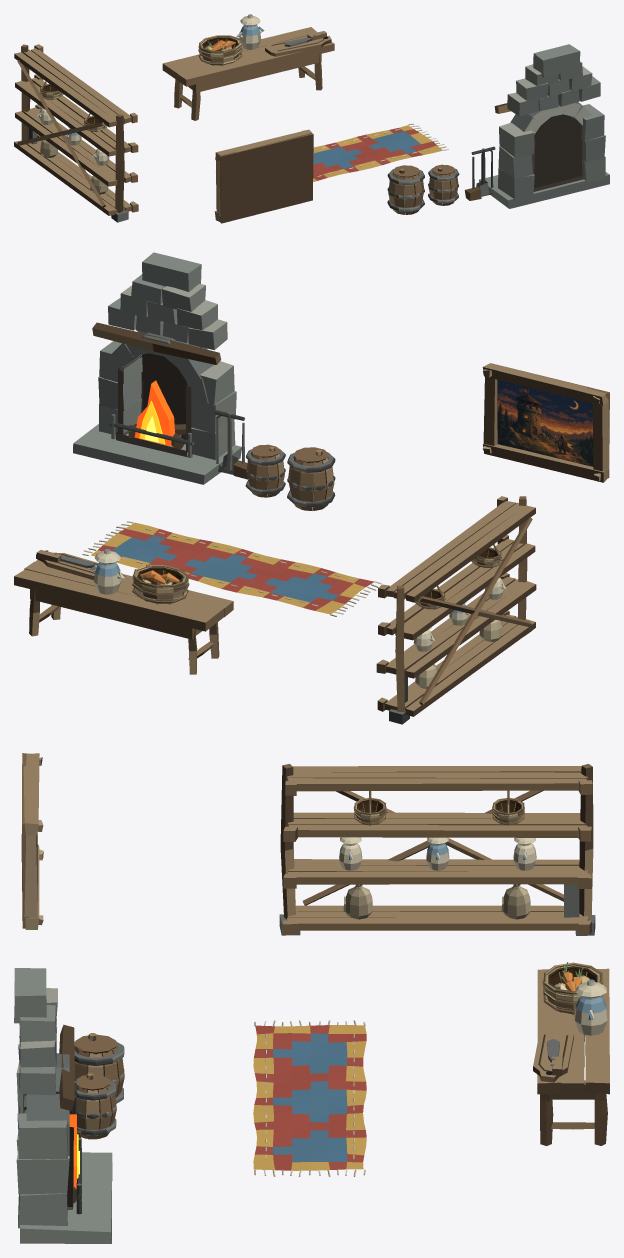
The model's file is cellar_remaining_furnishings_v1.glb.
3 renders of one model, top to bottom at view 1: azimuth 30°, elevation 25°; view 2: azimuth 150°, elevation 25°; view 3: azimuth 270°, elevation 25°, orthographic. The views are drawn at different scales.
Visible parts, largest first — view 1: MasonryHearthRuntimeMesh, Runtime_StorageShelf, Runtime_PixelWatchtowerPicture, Runtime_ProvisionTable, Runtime_AisleRunnerRug, Runtime_SupplyBarrelLarge, Runtime_RootBasket, Runtime_SupplyBarrelSmall, Runtime_CuttingBoardKnife, Runtime_PicklingCrock; view 2: MasonryHearthRuntimeMesh, Runtime_StorageShelf, Runtime_PixelWatchtowerPicture, Runtime_AisleRunnerRug, Runtime_ProvisionTable, Runtime_SupplyBarrelLarge, Runtime_RootBasket, Runtime_SupplyBarrelSmall, MasonryHearthFlameRuntimeMesh, Runtime_PicklingCrock, Runtime_CuttingBoardKnife; view 3: Runtime_StorageShelf, MasonryHearthRuntimeMesh, Runtime_AisleRunnerRug, Runtime_ProvisionTable, Runtime_PixelWatchtowerPicture, Runtime_SupplyBarrelSmall, Runtime_SupplyBarrelLarge, Runtime_RootBasket, Runtime_CuttingBoardKnife, Runtime_PicklingCrock, Runtime_GrainSack_0, Runtime_GrainSack_1 (+5 smaller).
Boxes of the visible parts, x1,y1,x2,y2 form: MasonryHearthRuntimeMesh: [464, 44, 609, 208]; Runtime_StorageShelf: [14, 44, 138, 222]; Runtime_PixelWatchtowerPicture: [214, 129, 313, 223]; Runtime_ProvisionTable: [162, 27, 334, 120]; Runtime_AisleRunnerRug: [313, 123, 448, 181]; Runtime_SupplyBarrelLarge: [387, 165, 424, 214]; Runtime_RootBasket: [198, 35, 242, 65]; Runtime_SupplyBarrelSmall: [428, 164, 459, 205]; Runtime_CuttingBoardKnife: [265, 31, 331, 56]; Runtime_PicklingCrock: [236, 14, 264, 49]; MasonryHearthRuntimeMesh: [73, 252, 247, 484]; Runtime_StorageShelf: [376, 496, 536, 724]; Runtime_PixelWatchtowerPicture: [482, 363, 609, 482]; Runtime_AisleRunnerRug: [82, 521, 381, 616]; Runtime_ProvisionTable: [14, 559, 233, 674]; Runtime_SupplyBarrelLarge: [287, 447, 335, 510]; Runtime_RootBasket: [132, 564, 189, 604]; Runtime_SupplyBarrelSmall: [245, 444, 285, 497]; MasonryHearthFlameRuntimeMesh: [134, 380, 174, 446]; Runtime_PicklingCrock: [90, 549, 125, 594]; Runtime_CuttingBoardKnife: [36, 550, 98, 579]; Runtime_StorageShelf: [279, 764, 595, 935]; MasonryHearthRuntimeMesh: [14, 968, 112, 1243]; Runtime_AisleRunnerRug: [253, 1020, 366, 1176]; Runtime_ProvisionTable: [537, 968, 609, 1145]; Runtime_PixelWatchtowerPicture: [21, 753, 43, 929]; Runtime_SupplyBarrelSmall: [76, 1073, 116, 1139]; Runtime_SupplyBarrelLarge: [74, 1033, 124, 1103]; Runtime_RootBasket: [542, 962, 603, 1014]; Runtime_CuttingBoardKnife: [533, 1031, 573, 1082]; Runtime_PicklingCrock: [574, 979, 607, 1035]; Runtime_GrainSack_0: [343, 884, 372, 919]; Runtime_GrainSack_1: [501, 884, 530, 919].
Bounding box in the file's own units: 10.15 × 3.29 × 7.93.
Materials: 38 (1 with a texture image).
